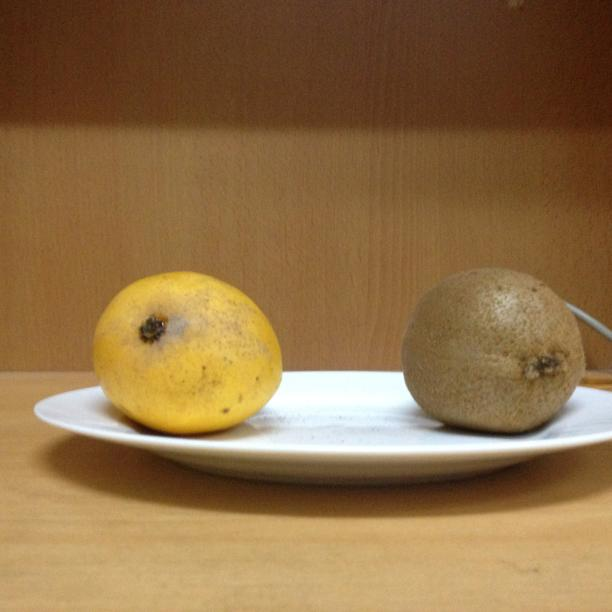mango: (94, 275, 283, 433)
qiwi: (401, 266, 582, 433)
